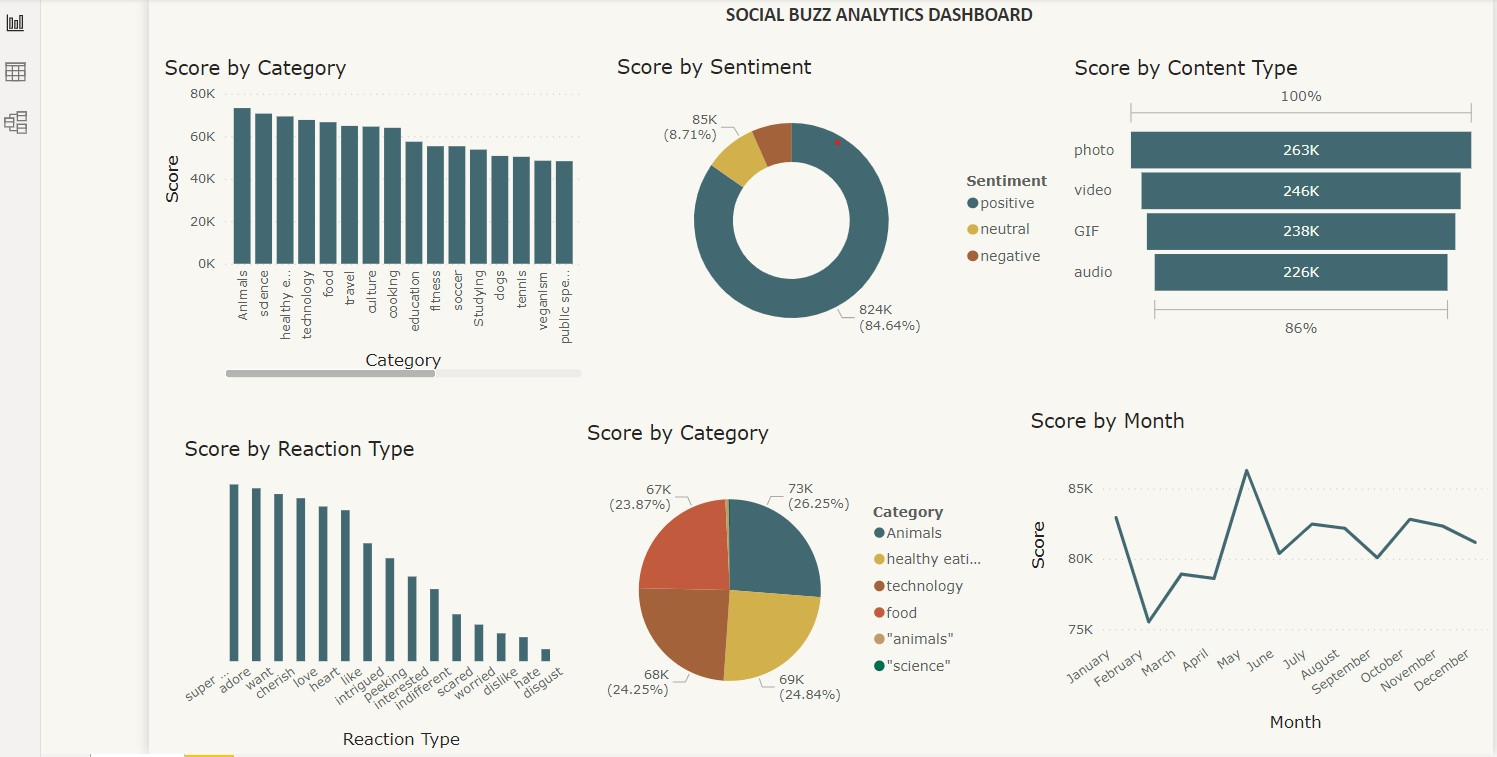

Layout of this report page (visuals, bound fields, positions):
{"tool":"powerbi","page":{"name":"Page 1","canvas":[1280,720],"ordinal":0},"visuals":[{"type":"textbox","box":[9.6,0,1270.4,720.3],"z":0},{"type":"textbox","box":[862.9,45.3,417.1,295],"z":1000},{"type":"funnel","fields":{"Category":["Reactions.Content Type"],"Y":["Sum(Reactions.Score)"]},"box":[875.6,55.5,393.2,273.8],"z":2000},{"type":"ribbonChart","fields":{"Y":["Sum(Reactions.Score)"],"Category":["Reactions.Reaction Type"]},"box":[28.9,418.5,388.3,301.5],"z":3000},{"type":"donutChart","fields":{"Y":["Sum(Reactions.Score)"],"Category":["Reactions.Sentiment"]},"box":[440.4,54.9,434.9,293.6],"z":4000},{"type":"lineStackedColumnComboChart","fields":{"Y":["Sum(Reactions.Score)"],"Category":["Reactions.Category"]},"box":[9.6,55.5,407.6,311.2],"z":5000},{"type":"pieChart","fields":{"Category":["Reactions.Category"],"Y":["Sum(Reactions.Score)"]},"box":[411.6,403.3,399.2,300.5],"z":6000},{"type":"lineChart","fields":{"Y":["Sum(Reactions.Score)"],"Category":["Reactions.Datetime.Variation.Date Hierarchy.Month"]},"box":[834.1,391,445.9,312.8],"z":7000}]}

Visuals, with their boxes on the page's 1280x720 design canvas (x1, y1, x2, y2). These are canvas units, not pixel positions in the 1497x757 screenshot, which may show the page scaled, cropped or inside an application window:
textbox: (left=10, top=0, right=1280, bottom=720)
textbox: (left=863, top=45, right=1280, bottom=340)
funnel - Reactions.Content Type x Sum(Reactions.Score): (left=876, top=56, right=1269, bottom=329)
ribbonChart - Sum(Reactions.Score) x Reactions.Reaction Type: (left=29, top=418, right=417, bottom=720)
donutChart - Sum(Reactions.Score) x Reactions.Sentiment: (left=440, top=55, right=875, bottom=348)
lineStackedColumnComboChart - Sum(Reactions.Score) x Reactions.Category: (left=10, top=56, right=417, bottom=367)
pieChart - Reactions.Category x Sum(Reactions.Score): (left=412, top=403, right=811, bottom=704)
lineChart - Sum(Reactions.Score) x Reactions.Datetime.Variation.Date Hierarchy.Month: (left=834, top=391, right=1280, bottom=704)
